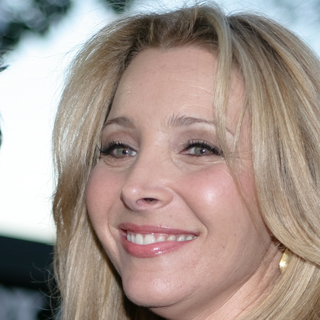eye: (173, 136, 225, 165), (96, 138, 142, 166)
